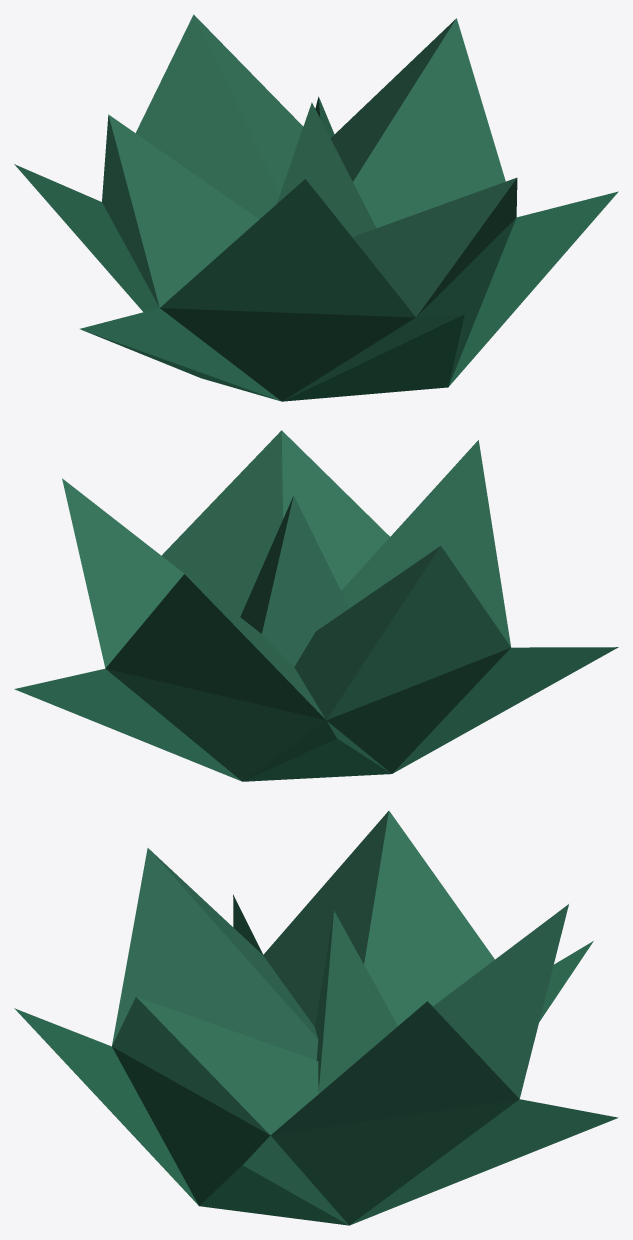
The model's file is BushAutumn5_Alt2.fbx.
3 views of the same model, one above another, from view 1: azimuth 30°, elevation 25°; view 2: azimuth 150°, elevation 25°; view 3: azimuth 270°, elevation 25° (orthographic). The views are drawn at different scales.
Parts seen in each view (by area): view 1: BushAutumn5_Alt2; view 2: BushAutumn5_Alt2; view 3: BushAutumn5_Alt2.
Boxes of the visible parts, box(x1,y1,x2,y2) form: BushAutumn5_Alt2: box(14, 14, 618, 401); BushAutumn5_Alt2: box(14, 430, 618, 781); BushAutumn5_Alt2: box(14, 811, 618, 1225).
Bounding box in the file's own units: 0.7751 × 0.3647 × 0.728.
